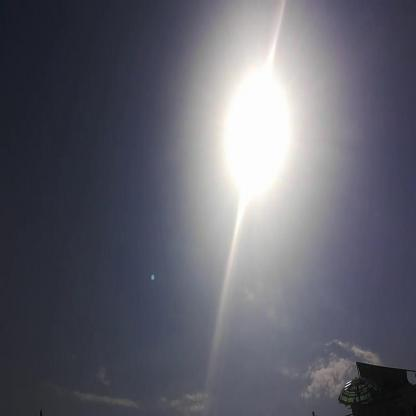other: (204, 43, 323, 262)
